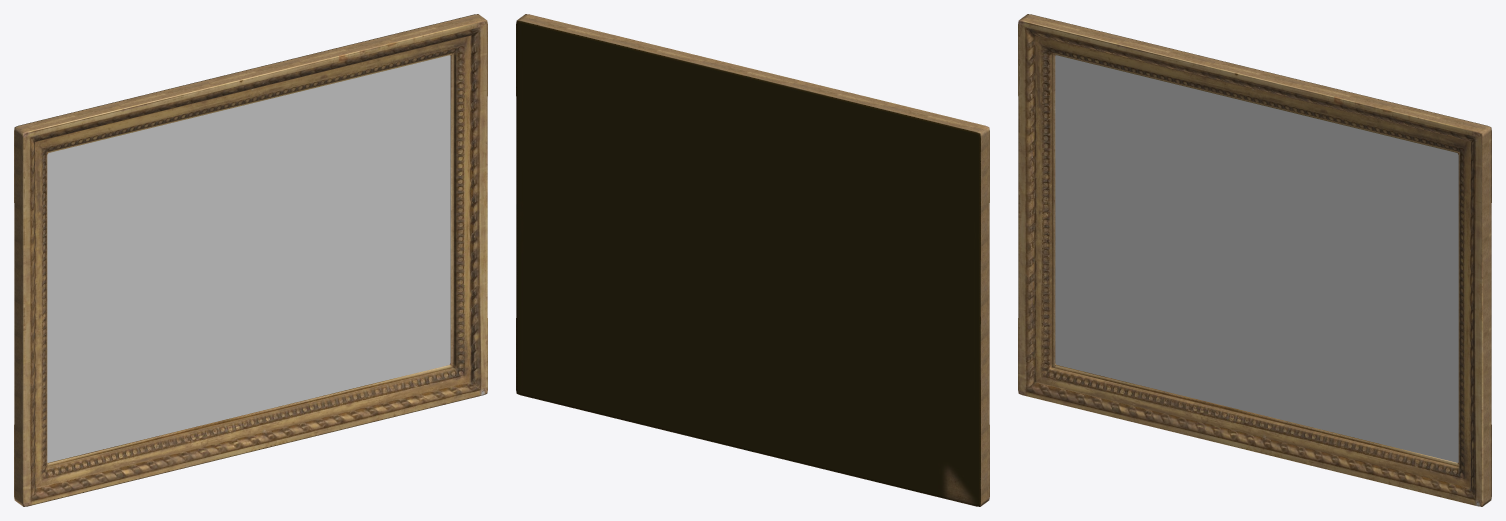
Rendered from frame.glb.
The picture shows the model from 3 angles, left to right: view 1: azimuth 30°, elevation 25°; view 2: azimuth 150°, elevation 25°; view 3: azimuth 330°, elevation 25°; orthographic projection.
Visible parts, largest first — view 1: fancy_picture_frame_01_canvas, fancy_picture_frame_01; view 2: fancy_picture_frame_01; view 3: fancy_picture_frame_01_canvas, fancy_picture_frame_01.
Part boxes in pixels (bbox=[...]): fancy_picture_frame_01_canvas: bbox=[47, 55, 450, 462]; fancy_picture_frame_01: bbox=[14, 14, 487, 506]; fancy_picture_frame_01: bbox=[516, 14, 989, 506]; fancy_picture_frame_01_canvas: bbox=[1055, 55, 1458, 462]; fancy_picture_frame_01: bbox=[1018, 14, 1491, 506].
Bounding box in the file's own units: 0.603 × 0.4641 × 0.02.
1 material, 1 textured.
